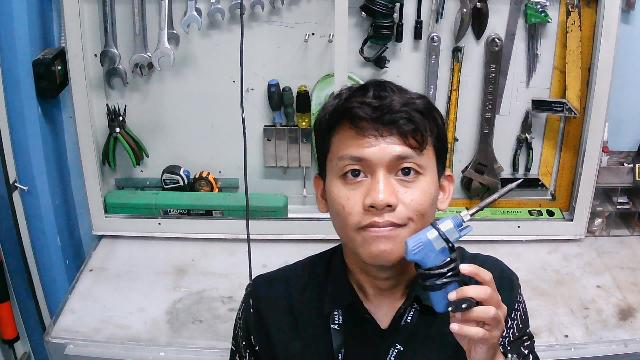solder_electrical: (401, 177, 527, 317)
